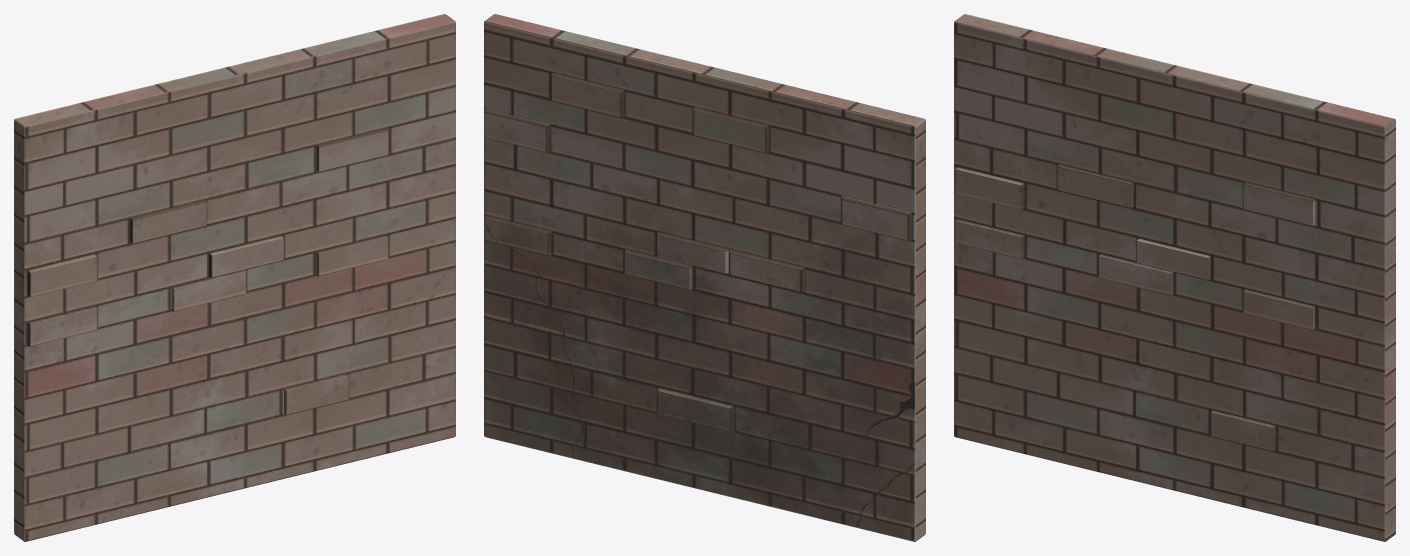
File: Parede_Tijolos.fbx
3 renders of one model, left to right at view 1: azimuth 30°, elevation 25°; view 2: azimuth 150°, elevation 25°; view 3: azimuth 330°, elevation 25°, orthographic.
Visible parts, largest first — view 1: Parede_Rico; view 2: Parede_Rico; view 3: Parede_Rico.
Boxes of the visible parts, bbox=[...] form: Parede_Rico: bbox=[14, 14, 455, 541]; Parede_Rico: bbox=[484, 14, 925, 541]; Parede_Rico: bbox=[954, 14, 1395, 541].
Size of the model in its own units: 325 by 299 by 19.9.
